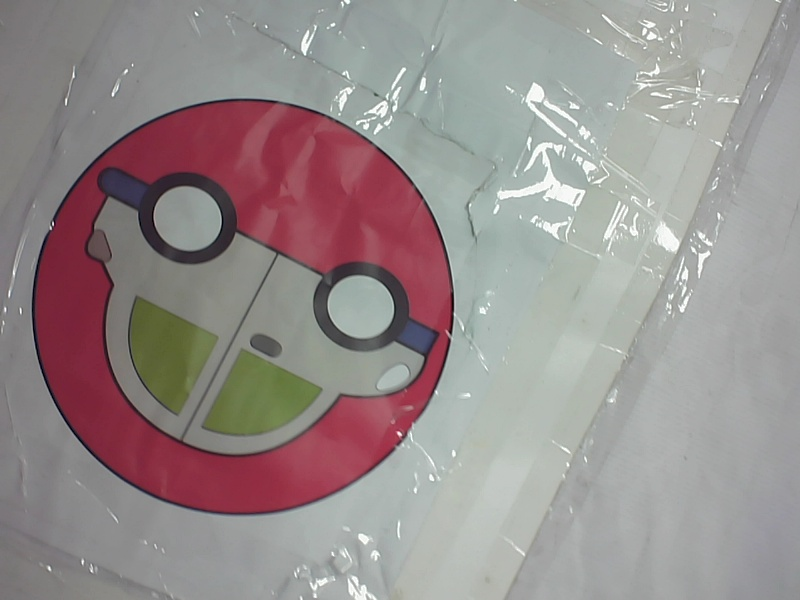areaC: (17, 98, 475, 523)
